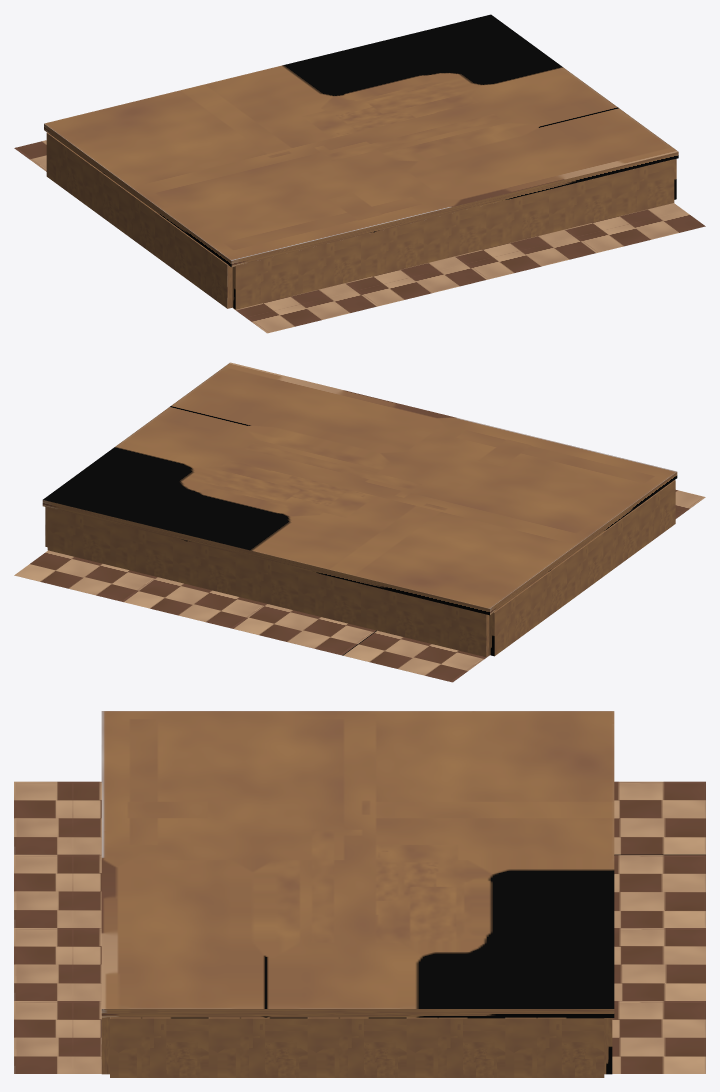
File: house_demo.obj
The picture shows the model from 3 angles, top to bottom: view 1: azimuth 30°, elevation 25°; view 2: azimuth 150°, elevation 25°; view 3: azimuth 270°, elevation 25°; orthographic projection. The views are drawn at different scales.
Visible parts, largest first — view 1: ceiling, House, Plane; view 2: ceiling, House, Plane; view 3: ceiling, Plane, House.
Part boxes in pixels (x1,y1,x2,y2): ceiling: (44, 14, 678, 267); House: (46, 132, 676, 309); Plane: (14, 140, 705, 333); ceiling: (42, 362, 677, 615); House: (45, 480, 675, 657); Plane: (14, 490, 705, 682); ceiling: (101, 711, 614, 1017); Plane: (14, 781, 705, 1073); House: (101, 1017, 612, 1077).
Size of the model in its own units: 43 by 4.57 by 42.
